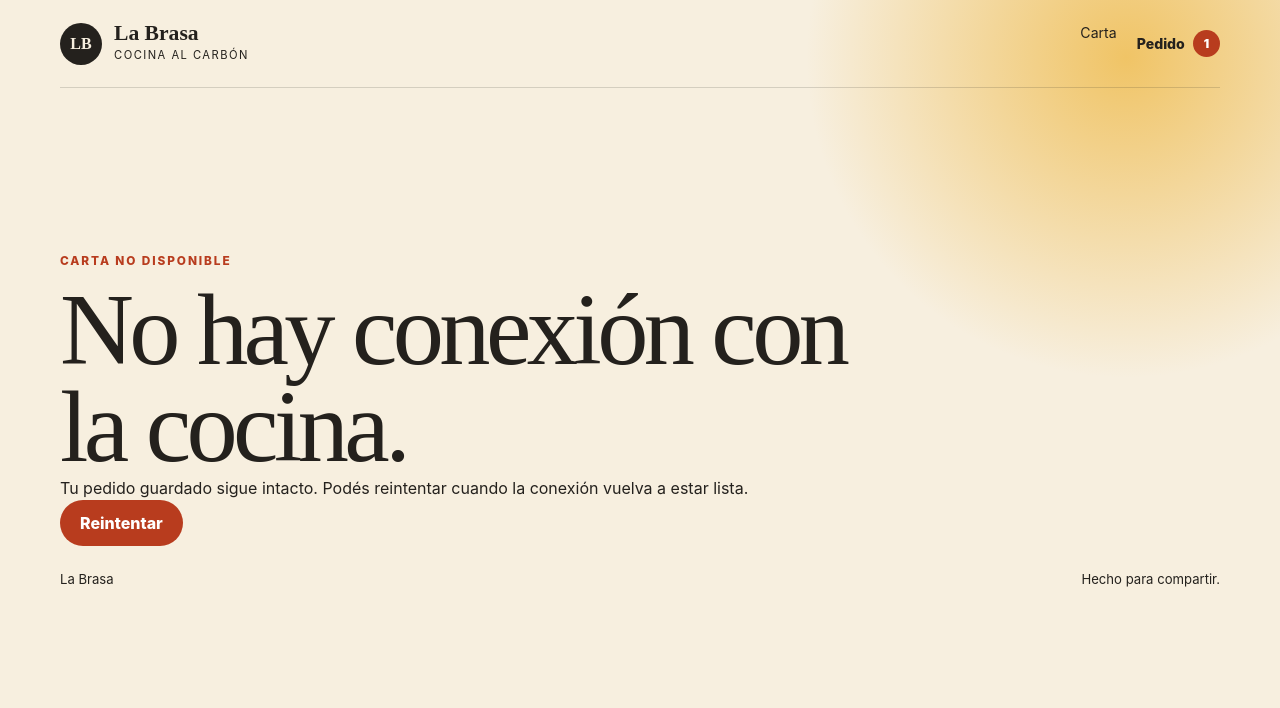
it: cart and checkout › keeps a persisted cart when catalog reconciliation is unavailable
Expected: the heading "No hay conexión con la cocina." is shown, [60, 281, 860, 476]
Click the button "Reintentar" at {"x": 121, "y": 523}, box [60, 500, 183, 546]
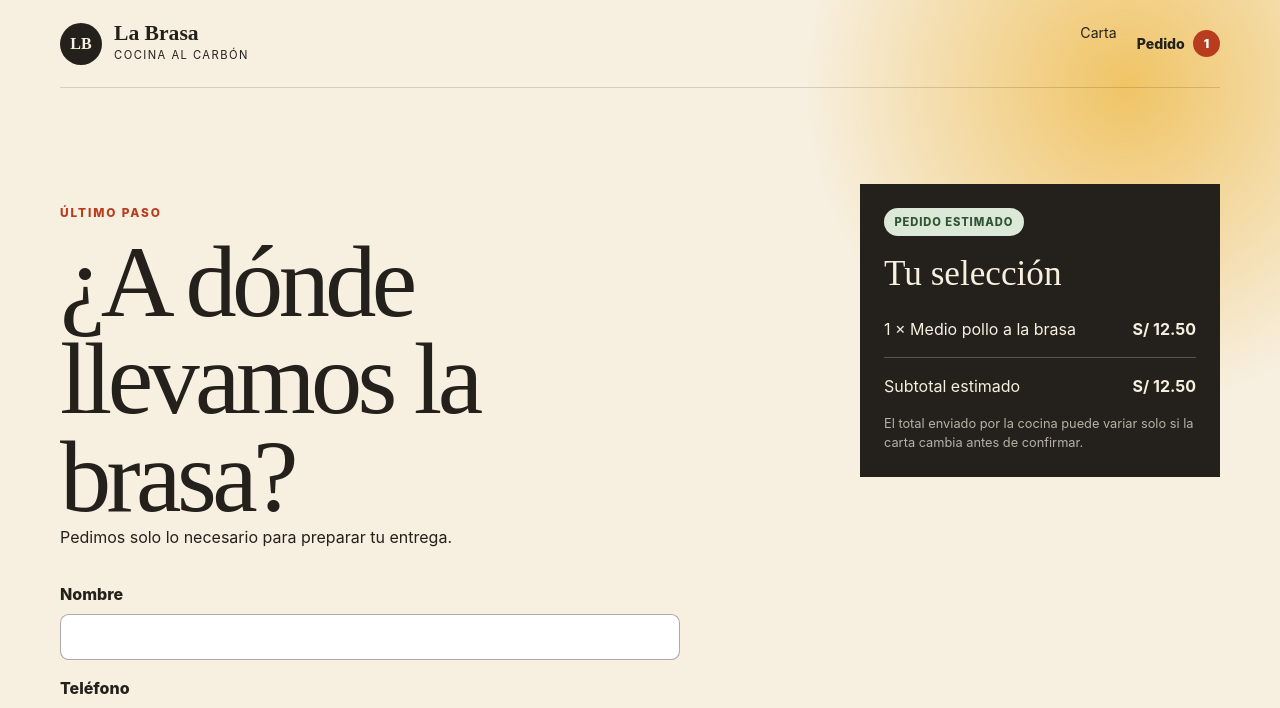
Expected: the heading "¿A dónde llevamos la brasa?" is shown, [60, 225, 478, 533]
